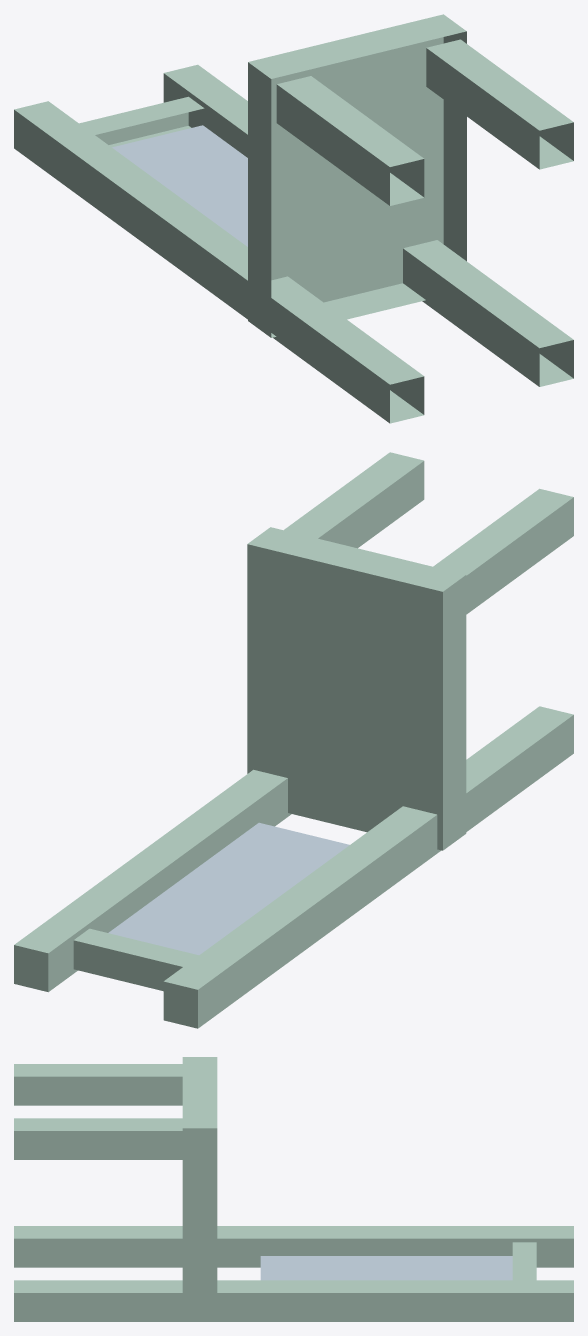
3 renders of one model, top to bottom at view 1: azimuth 30°, elevation 25°; view 2: azimuth 150°, elevation 25°; view 3: azimuth 270°, elevation 25°, orthographic. The views are drawn at different scales.
Parts seen in each view (by area): view 1: Object56; view 2: Object56; view 3: Object56.
Part boxes in pixels (x1,y1,x2,y2): Object56: (14, 14, 573, 423); Object56: (14, 452, 573, 1028); Object56: (14, 1057, 573, 1321).
Size of the model in its own units: 3918 by 5032 by 13041.
